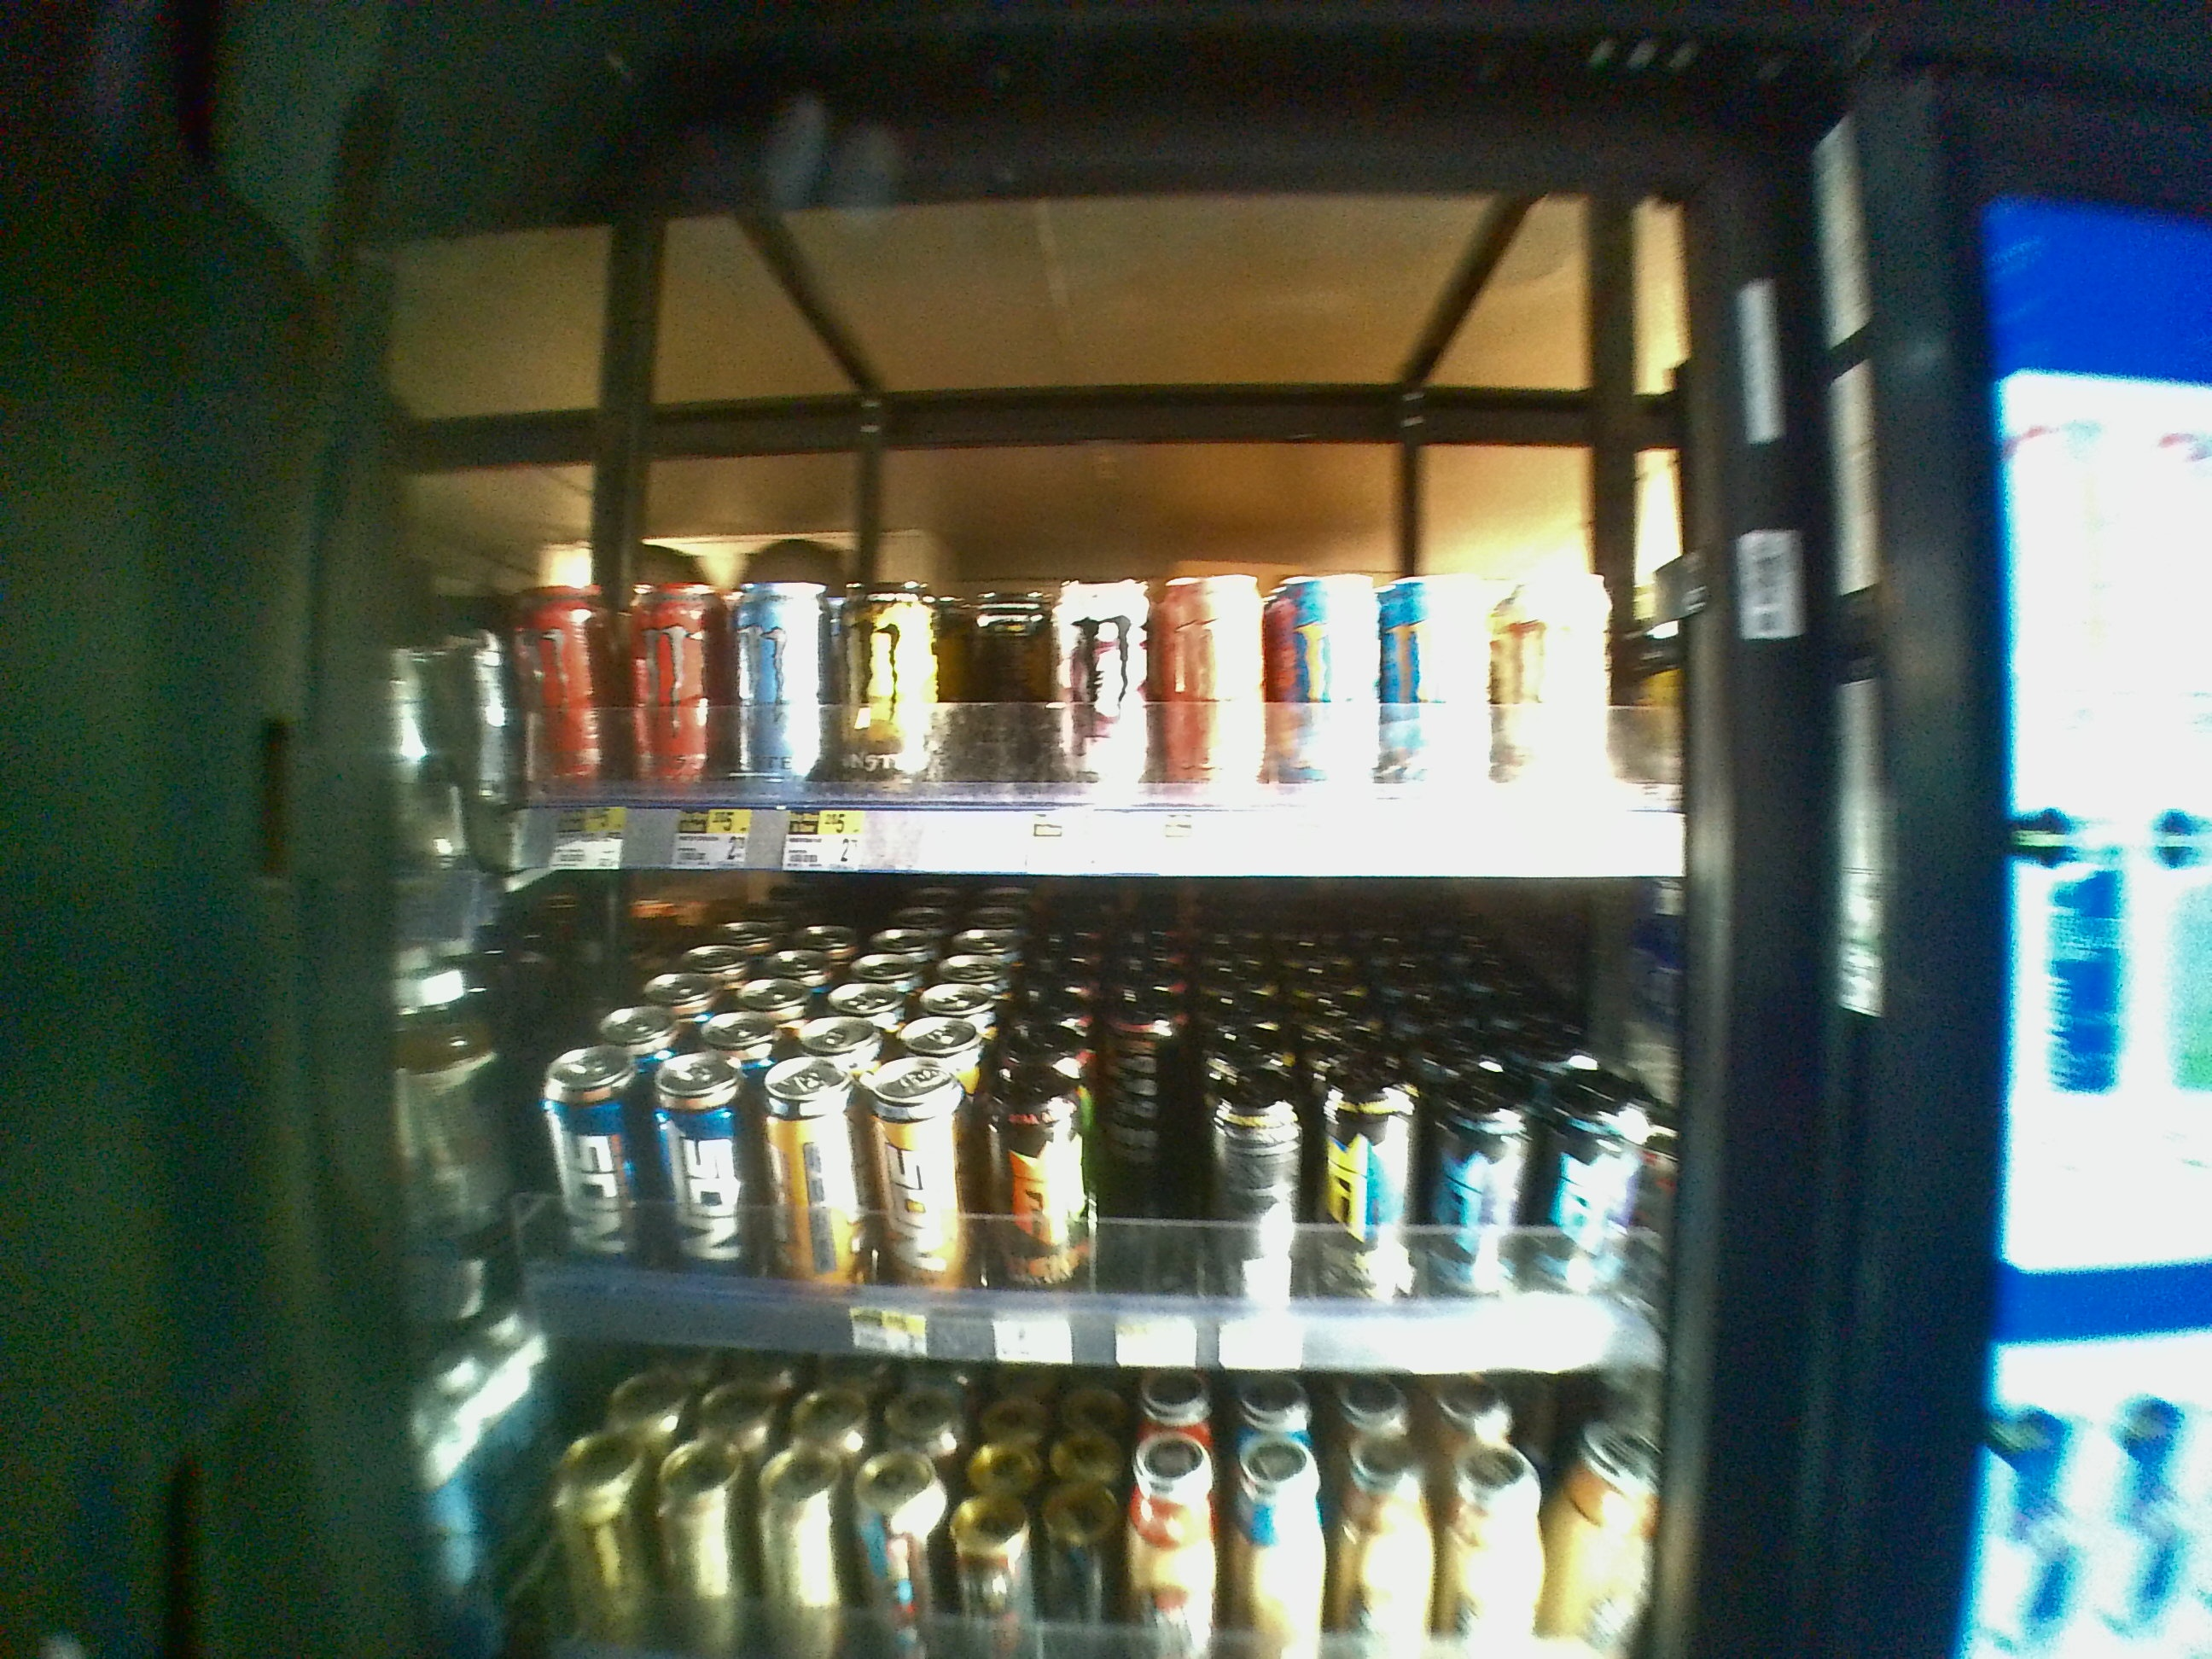shelf: (392, 199, 1698, 880), (385, 880, 1702, 1364)
